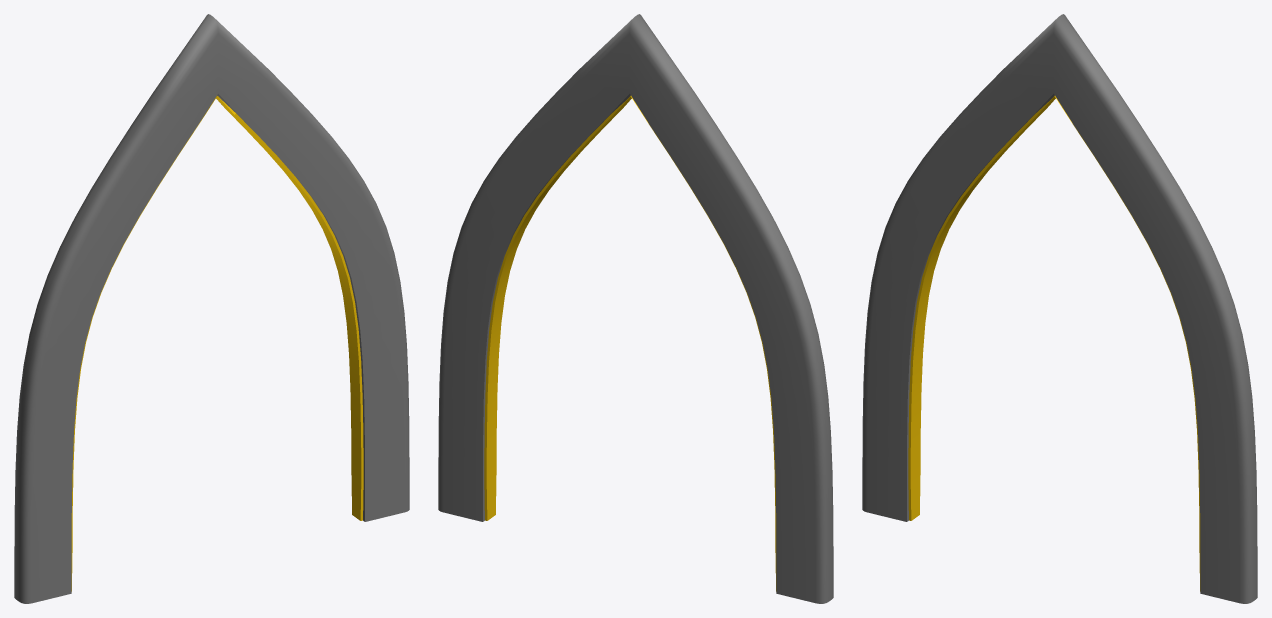
File: Big_Arch.fbx
3 renders of one model, left to right at view 1: azimuth 30°, elevation 25°; view 2: azimuth 150°, elevation 25°; view 3: azimuth 330°, elevation 25°, orthographic.
Parts seen in each view (by area): view 1: Box004; view 2: Box004; view 3: Box004.
Boxes of the visible parts, bbox=[...] form: Box004: bbox=[14, 14, 409, 603]; Box004: bbox=[438, 14, 833, 603]; Box004: bbox=[862, 14, 1257, 603].
Bounding box in the file's own units: 226 × 299 × 13.02.
